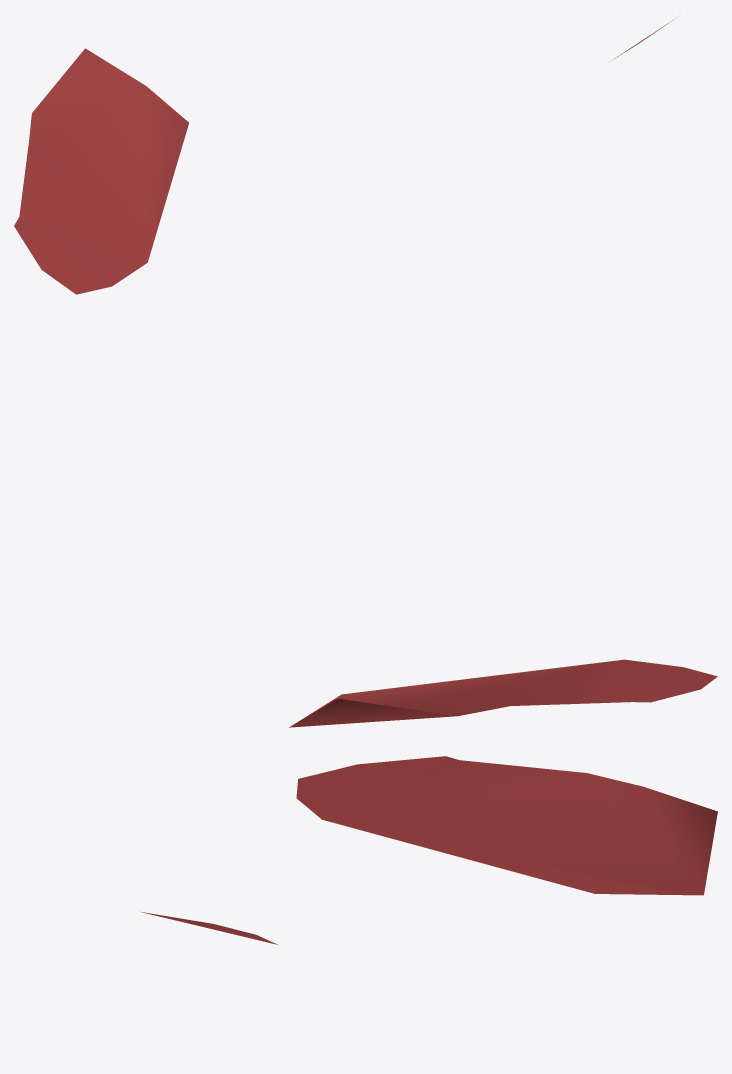
File: flexor-digitorum-brevis-e2r.glb
The picture shows the model from 3 angles, top to bottom: view 1: azimuth 30°, elevation 25°; view 2: azimuth 150°, elevation 25°; view 3: azimuth 270°, elevation 25°; orthographic projection. The views are drawn at different scales.
Parts seen in each view (by area): view 1: Flexor digitorum brevis.e2r; view 2: Flexor digitorum brevis.e2r; view 3: Flexor digitorum brevis.e2r.
Boxes of the visible parts, box(x1,y1,x2,y2) form: Flexor digitorum brevis.e2r: box(14, 19, 674, 294); Flexor digitorum brevis.e2r: box(289, 659, 717, 727); Flexor digitorum brevis.e2r: box(141, 756, 717, 944).
Size of the model in its own units: 0.00539 by 0.00131 by 0.00464.
